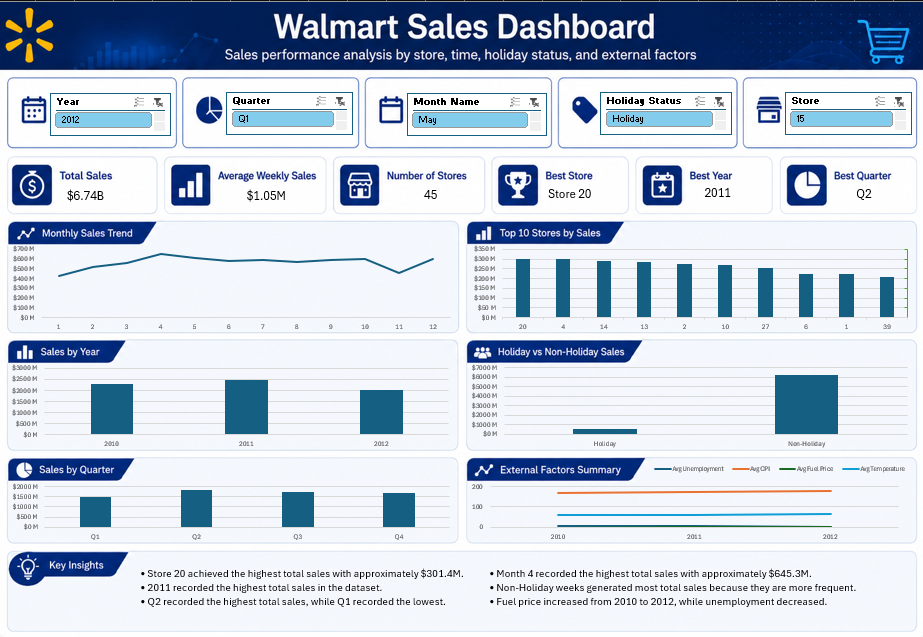

The dashboard page shown, as its layout file describes it:
{"tool":"powerbi","page":{"name":"Page 1","canvas":[1280,720],"ordinal":0},"visuals":[{"type":"cardVisual","fields":{"Data":["Walmart_Sales.Total Sales"]},"box":[235.7,78.6,280,84.3],"z":0},{"type":"cardVisual","fields":{"Data":["Walmart_Sales.Average Weekly Sales"]},"box":[572.9,78.6,280,84.3],"z":1000},{"type":"cardVisual","fields":{"Data":["Walmart_Sales.Total Stores"]},"box":[897.1,78.6,280,84.3],"z":2000},{"type":"cardVisual","fields":{"Data":["Walmart_Sales.Holiday Weeks"]},"box":[256,192,288,64],"z":3000},{"type":"cardVisual","fields":{"Data":["Walmart_Sales.Average Unemployment Rate"]},"box":[744.3,187.1,280,74.3],"z":4000},{"type":"lineChart","fields":{"Category":["Walmart_Sales.Data_Clean.Variation.Date Hierarchy.Month"],"Y":["Walmart_Sales.Total Sales"]},"box":[225,278.8,1037.5,187.5],"z":5000},{"type":"columnChart","fields":{"Category":["Walmart_Sales.Store"],"Y":["Walmart_Sales.Total Sales"]},"box":[225,475,322.5,227.5],"z":6000},{"type":"columnChart","fields":{"Category":["Walmart_Sales.Year"],"Y":["Walmart_Sales.Total Sales"]},"box":[991.2,475,271.2,227.5],"z":7000},{"type":"columnChart","fields":{"Category":["Walmart_Sales.Data_Clean.Variation.Date Hierarchy.Quarter"],"Y":["Walmart_Sales.Total Sales"]},"box":[784,496,208,208],"z":8000},{"type":"donutChart","fields":{"Category":["Walmart_Sales.Holiday_Status"],"Y":["Walmart_Sales.Total Sales"]},"box":[563.8,501.2,212.5,201.2],"z":9000},{"type":"slicer","title":"Year","fields":{"Values":["Walmart_Sales.Data_Clean.Variation.Date Hierarchy.Year"]},"box":[0,96,224,48],"z":10000},{"type":"slicer","title":"Holiday Status","fields":{"Values":["Walmart_Sales.Holiday_Status"]},"box":[0,626,224,64],"z":11000},{"type":"slicer","title":"Month","fields":{"Values":["Walmart_Sales.Data_Clean.Variation.Date Hierarchy.Month"]},"box":[0,400,224,192],"z":12000},{"type":"slicer","title":"Store","fields":{"Values":["Walmart_Sales.Store"]},"box":[0,176,224,192],"z":13000},{"type":"image","box":[30,164,16,16],"z":14000},{"type":"textbox","box":[48,76,48,32],"z":15000},{"type":"image","box":[30.5,84,16,16],"z":16000},{"type":"textbox","box":[48,156.4,48,32],"z":17000},{"type":"textbox","box":[48,380.8,64,32],"z":18000},{"type":"image","box":[30,387,16,16],"z":19000},{"type":"textbox","box":[48,605.2,128,32],"z":20000},{"type":"image","box":[30,612,16,16],"z":21000},{"type":"shape","box":[32,145.6,144,16],"z":22000},{"type":"shape","box":[32,370,144,16],"z":23000},{"type":"shape","box":[32,592,144,16],"z":24000}]}

Visuals, with their boxes on the page's 1280x720 design canvas (x1, y1, x2, y2). These are canvas units, not pixel positions in the 923x637 screenshot, which may show the page scaled, cropped or inside an application window:
cardVisual - Walmart_Sales.Total Sales: (x1=236, y1=79, x2=516, y2=163)
cardVisual - Walmart_Sales.Average Weekly Sales: (x1=573, y1=79, x2=853, y2=163)
cardVisual - Walmart_Sales.Total Stores: (x1=897, y1=79, x2=1177, y2=163)
cardVisual - Walmart_Sales.Holiday Weeks: (x1=256, y1=192, x2=544, y2=256)
cardVisual - Walmart_Sales.Average Unemployment Rate: (x1=744, y1=187, x2=1024, y2=261)
lineChart - Walmart_Sales.Data_Clean.Variation.Date Hierarchy.Month x Walmart_Sales.Total Sales: (x1=225, y1=279, x2=1262, y2=466)
columnChart - Walmart_Sales.Store x Walmart_Sales.Total Sales: (x1=225, y1=475, x2=548, y2=702)
columnChart - Walmart_Sales.Year x Walmart_Sales.Total Sales: (x1=991, y1=475, x2=1262, y2=702)
columnChart - Walmart_Sales.Data_Clean.Variation.Date Hierarchy.Quarter x Walmart_Sales.Total Sales: (x1=784, y1=496, x2=992, y2=704)
donutChart - Walmart_Sales.Holiday_Status x Walmart_Sales.Total Sales: (x1=564, y1=501, x2=776, y2=702)
"Year" slicer: (x1=0, y1=96, x2=224, y2=144)
"Holiday Status" slicer: (x1=0, y1=626, x2=224, y2=690)
"Month" slicer: (x1=0, y1=400, x2=224, y2=592)
"Store" slicer: (x1=0, y1=176, x2=224, y2=368)
image: (x1=30, y1=164, x2=46, y2=180)
textbox: (x1=48, y1=76, x2=96, y2=108)
image: (x1=30, y1=84, x2=46, y2=100)
textbox: (x1=48, y1=156, x2=96, y2=188)
textbox: (x1=48, y1=381, x2=112, y2=413)
image: (x1=30, y1=387, x2=46, y2=403)
textbox: (x1=48, y1=605, x2=176, y2=637)
image: (x1=30, y1=612, x2=46, y2=628)
shape: (x1=32, y1=146, x2=176, y2=162)
shape: (x1=32, y1=370, x2=176, y2=386)
shape: (x1=32, y1=592, x2=176, y2=608)
